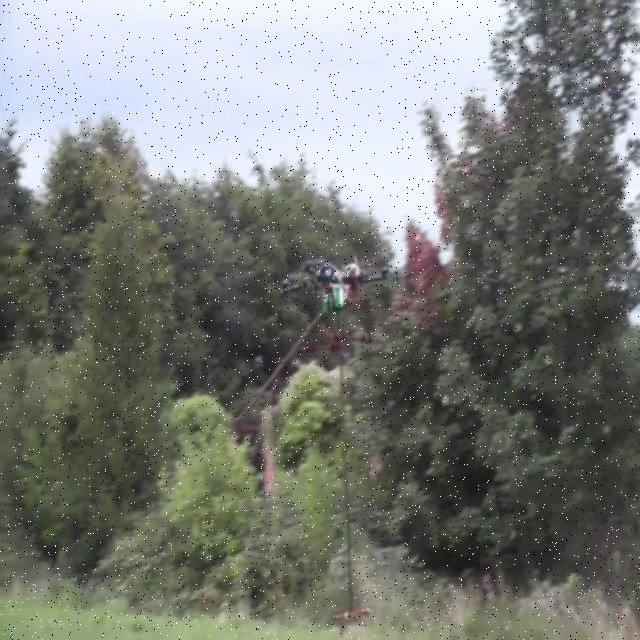UAV: (279, 255, 391, 353)
